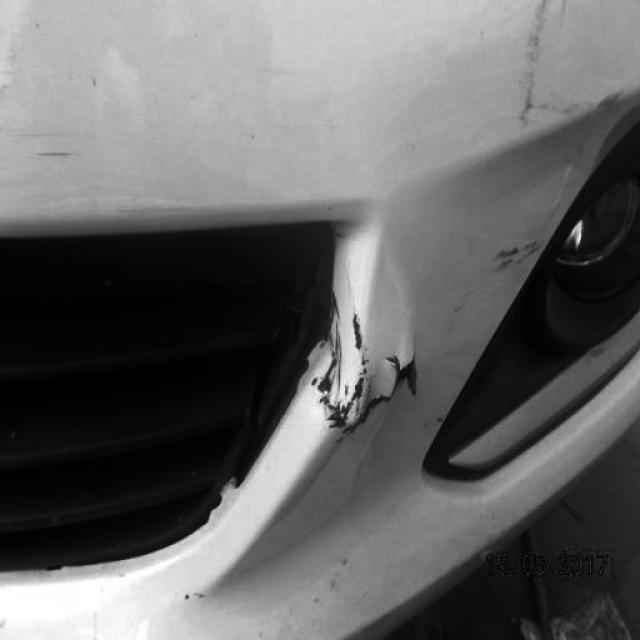car damage: (293, 269, 427, 450), (509, 2, 621, 120), (495, 236, 545, 277)
